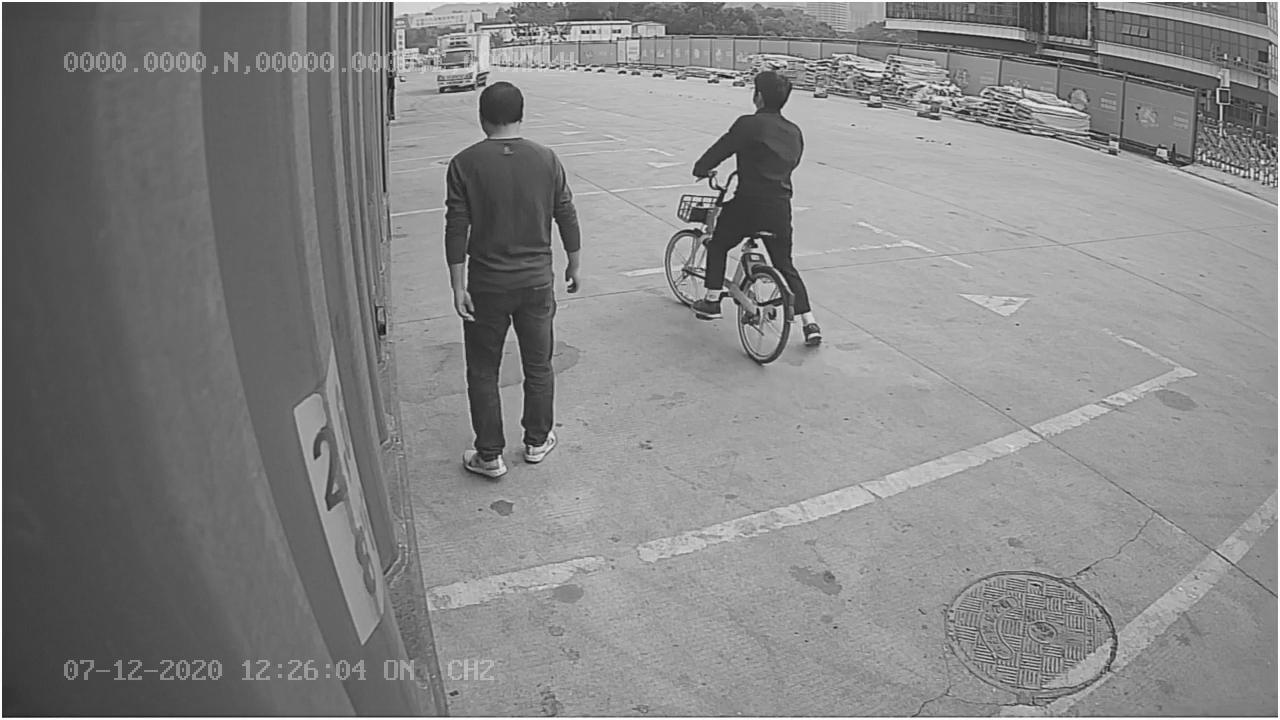person: (440, 76, 585, 486)
